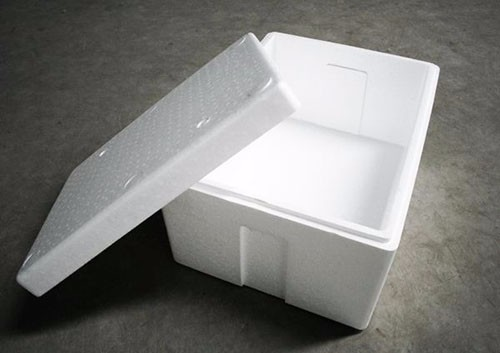Boxes: (18, 33, 438, 329)
